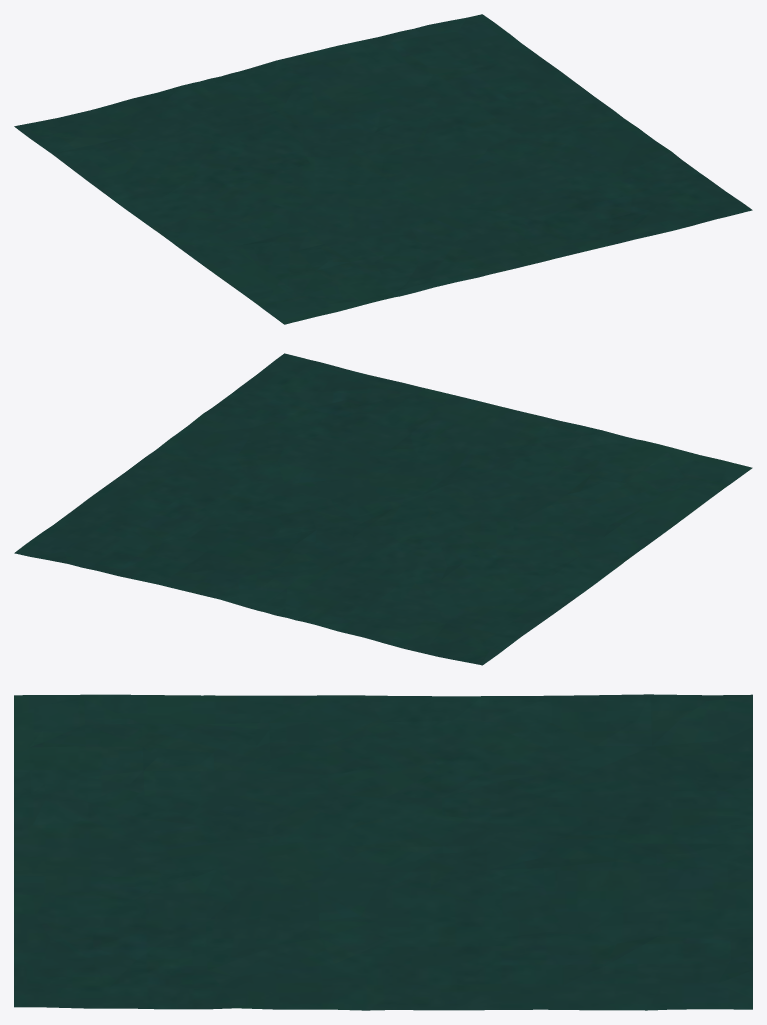
3 renders of one model, top to bottom at view 1: azimuth 30°, elevation 25°; view 2: azimuth 150°, elevation 25°; view 3: azimuth 270°, elevation 25°, orthographic. The views are drawn at different scales.
Bounding box in the file's own units: 52.22 × 0.5735 × 52.22.
Materials: 3 (3 with a texture image).
